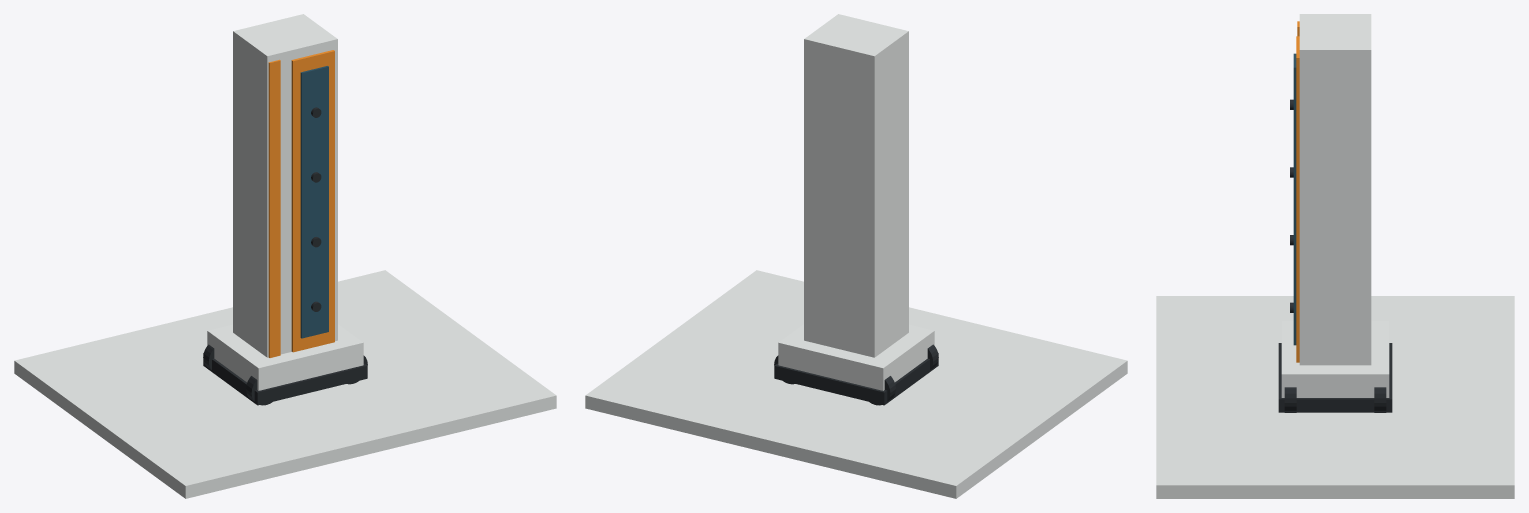
The picture shows the model from 3 angles, left to right: view 1: azimuth 30°, elevation 25°; view 2: azimuth 150°, elevation 25°; view 3: azimuth 270°, elevation 25°; orthographic projection. The views are drawn at different scales.
Parts seen in each view (by area): view 1: Floor, Vertical imaging tower, Imaging slit, Orange optical surround, Low mobile base, Orange side fascia, Dark bumper; view 2: Floor, Vertical imaging tower, Low mobile base, Dark bumper; view 3: Floor, Vertical imaging tower, Low mobile base, Dark bumper, Orange optical surround, Imaging slit.
Boxes of the visible parts, left/top/right/bottom form: Floor: left=14, top=270, right=556, bottom=498; Vertical imaging tower: left=233, top=14, right=337, bottom=357; Imaging slit: left=300, top=66, right=328, bottom=338; Orange optical surround: left=291, top=50, right=334, bottom=352; Low mobile base: left=207, top=324, right=363, bottom=390; Orange side fascia: left=268, top=59, right=280, bottom=357; Dark bumper: left=203, top=353, right=367, bottom=405; Floor: left=585, top=270, right=1127, bottom=498; Vertical imaging tower: left=804, top=14, right=908, bottom=357; Low mobile base: left=778, top=324, right=934, bottom=390; Dark bumper: left=774, top=353, right=938, bottom=405; Floor: left=1156, top=296, right=1514, bottom=498; Vertical imaging tower: left=1299, top=14, right=1371, bottom=365; Low mobile base: left=1281, top=320, right=1389, bottom=397; Dark bumper: left=1278, top=343, right=1392, bottom=412; Orange optical surround: left=1296, top=36, right=1299, bottom=362; Imaging slit: left=1293, top=53, right=1296, bottom=345.
Bounding box in the file's own units: 3 × 2.75 × 2.4.
